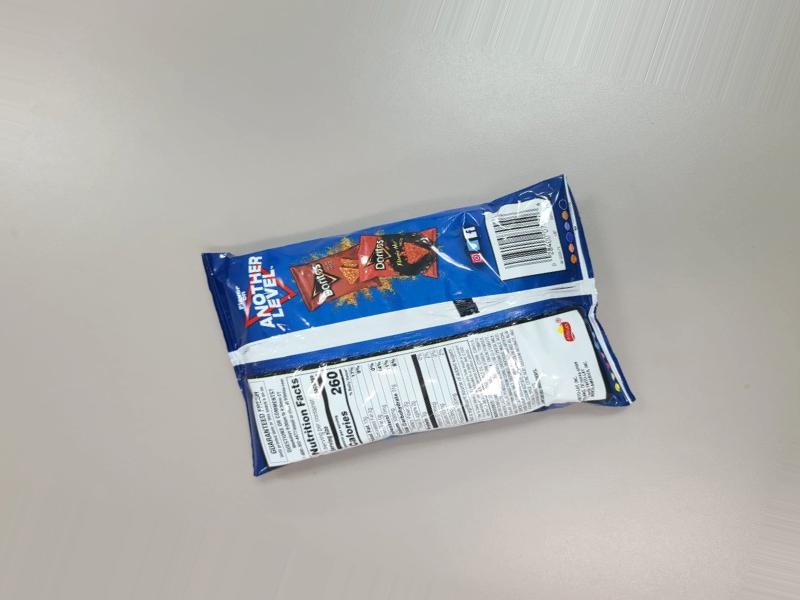doritos: (184, 182, 661, 490)
